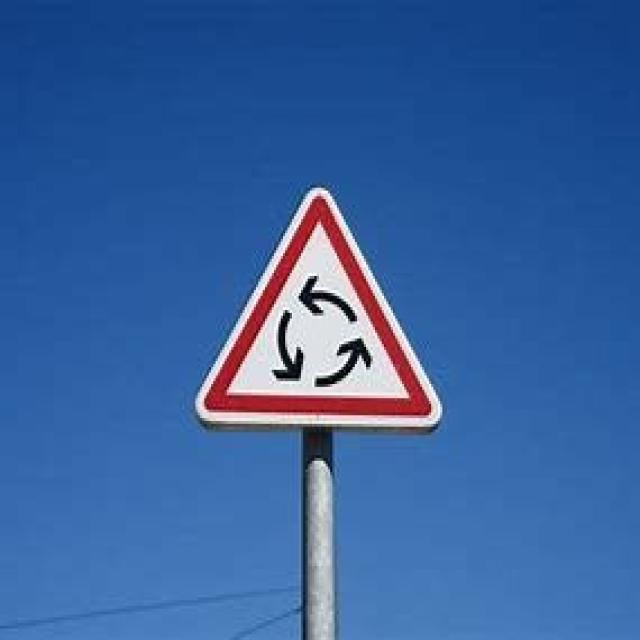ROUNDABOUT: (188, 175, 450, 441)
